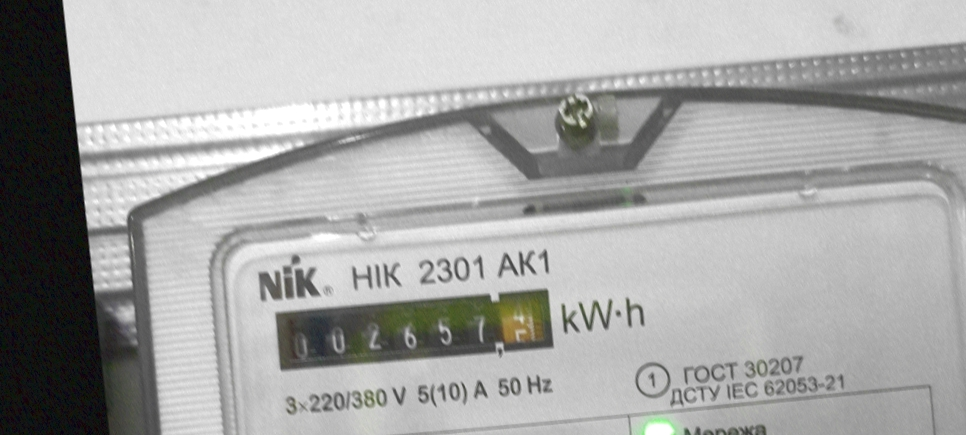0: (292, 330, 312, 360), (330, 324, 348, 355)
2: (366, 320, 385, 351)
4: (511, 298, 528, 325)
5: (437, 315, 456, 347), (514, 327, 531, 343)
6: (402, 319, 420, 350)
7: (473, 312, 491, 345)
screen: (266, 271, 568, 389)
